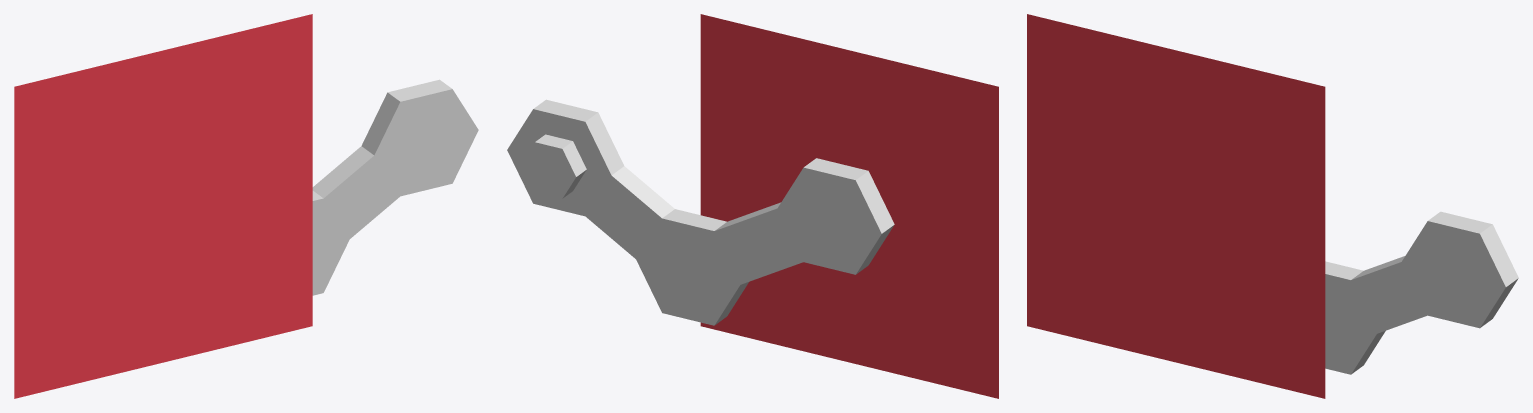
The model's file is L_Arm_Saw.fbx.
The picture shows the model from 3 angles, left to right: view 1: azimuth 30°, elevation 25°; view 2: azimuth 150°, elevation 25°; view 3: azimuth 330°, elevation 25°; orthographic projection.
Parts seen in each view (by area): view 1: Left_Arm_Saw; view 2: Left_Arm_Saw; view 3: Left_Arm_Saw.
Boxes of the visible parts, x1,y1,x2,y2 form: Left_Arm_Saw: (14, 14, 478, 398); Left_Arm_Saw: (507, 14, 998, 398); Left_Arm_Saw: (1027, 14, 1518, 398).
Size of the model in its own units: 316 by 200 by 35.68.
